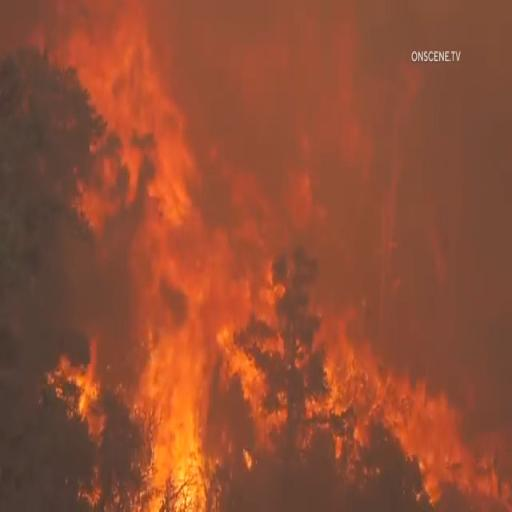fire: (64, 12, 241, 304), (275, 303, 511, 512), (112, 336, 237, 512)
